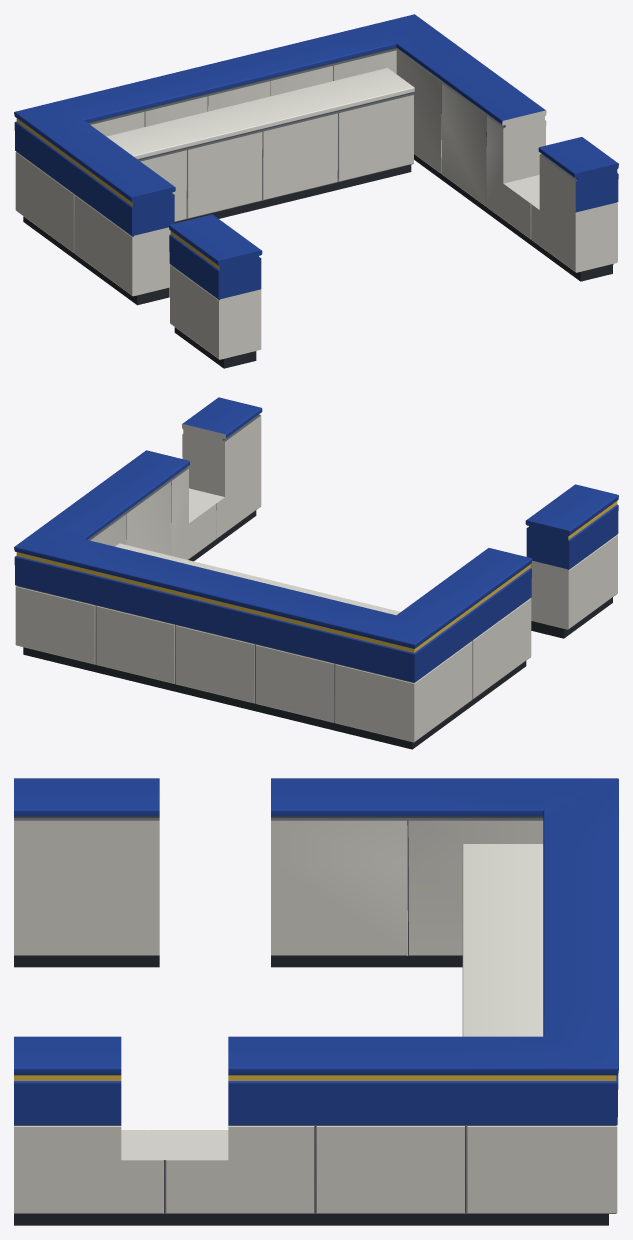
Rendered from checkout-counter-usquare-laminate.glb.
3 views of the same model, one above another, from view 1: azimuth 30°, elevation 25°; view 2: azimuth 150°, elevation 25°; view 3: azimuth 270°, elevation 25° (orthographic). The views are drawn at different scales.
Visible parts, largest first — view 1: usquare-surround-0, usquare-work-cabinet, usquare-surround-1; view 2: usquare-surround-0, usquare-surround-1, usquare-work-cabinet; view 3: usquare-surround-0, usquare-surround-1, usquare-work-cabinet.
Part boxes in pixels (left/top/right/bottom): usquare-surround-0: left=14, top=14, right=618, bottom=305; usquare-work-cabinet: left=106, top=68, right=414, bottom=223; usquare-surround-1: left=169, top=214, right=262, bottom=368; usquare-surround-0: left=14, top=397, right=532, bottom=749; usquare-surround-1: left=525, top=484, right=618, bottom=638; usquare-work-cabinet: left=115, top=543, right=400, bottom=615; usquare-surround-0: left=14, top=778, right=618, bottom=1225; usquare-surround-1: left=14, top=778, right=159, bottom=967; usquare-work-cabinet: left=462, top=844, right=543, bottom=1036.
Size of the model in its own units: 13.6 by 3.54 by 11.99.
